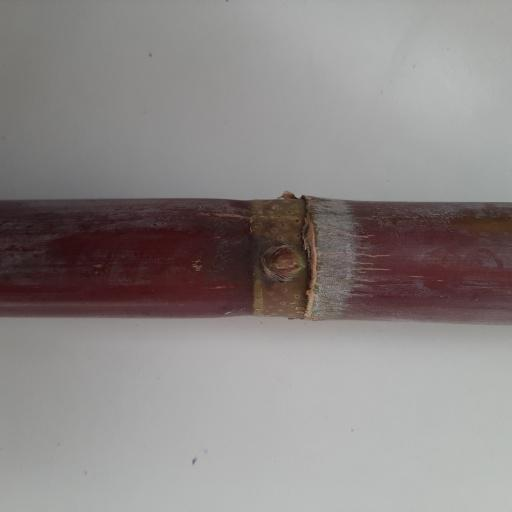Bud: (266, 245, 305, 278)
